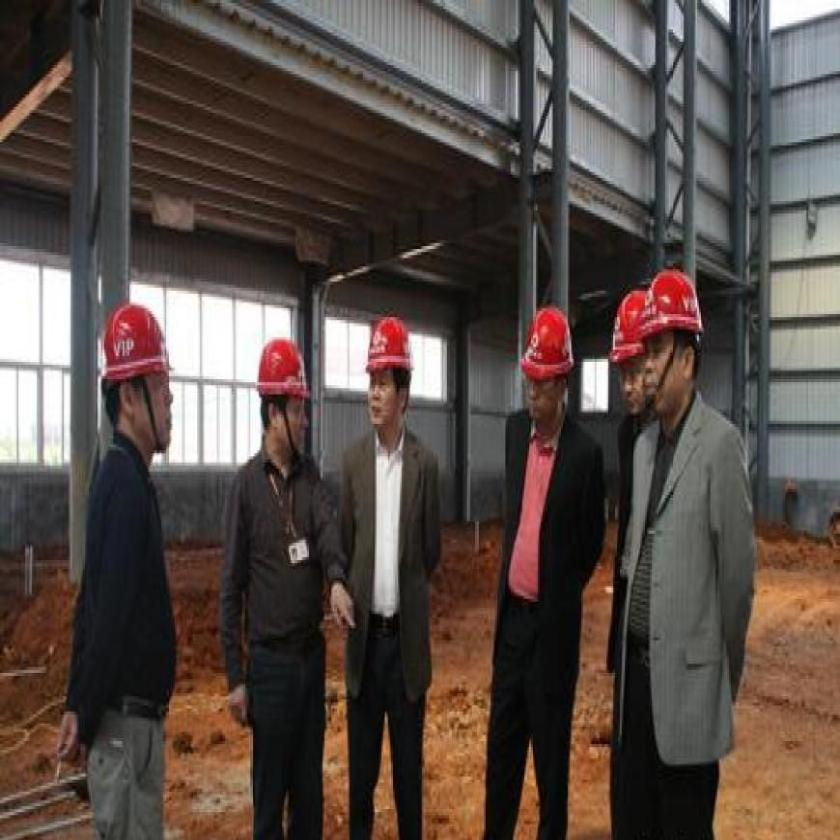Con_casco: (98, 305, 176, 471), (639, 262, 706, 429), (517, 308, 578, 436), (363, 314, 415, 450), (257, 336, 308, 457), (610, 288, 650, 419)
